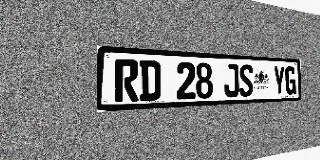2: (177, 62, 195, 99)
8: (196, 62, 213, 99)
D: (139, 60, 161, 101)
G: (285, 66, 296, 95)
J: (224, 64, 239, 97)
R: (115, 59, 139, 102)
S: (239, 64, 253, 97)
Y: (273, 66, 285, 95)
